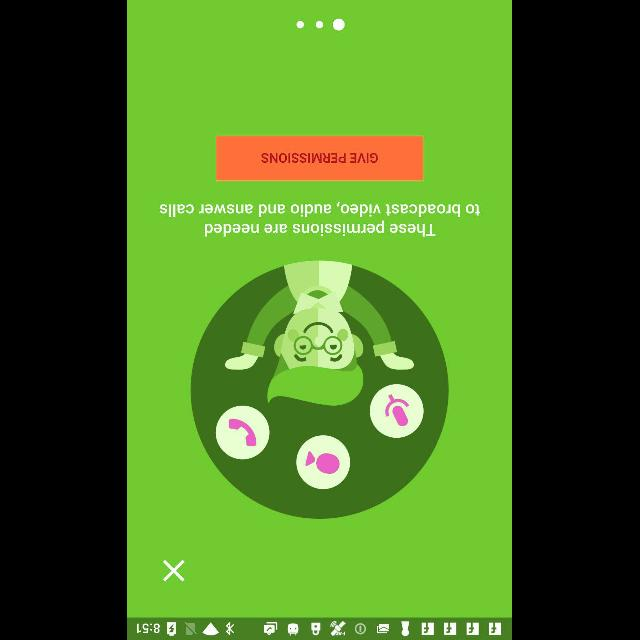icon: (163, 558, 185, 582)
image: (192, 260, 450, 520)
pageindicator: (296, 18, 346, 32)
text: (160, 201, 482, 237)
textbutton: (216, 136, 424, 180)
uppertaskbar: (128, 617, 512, 639)
